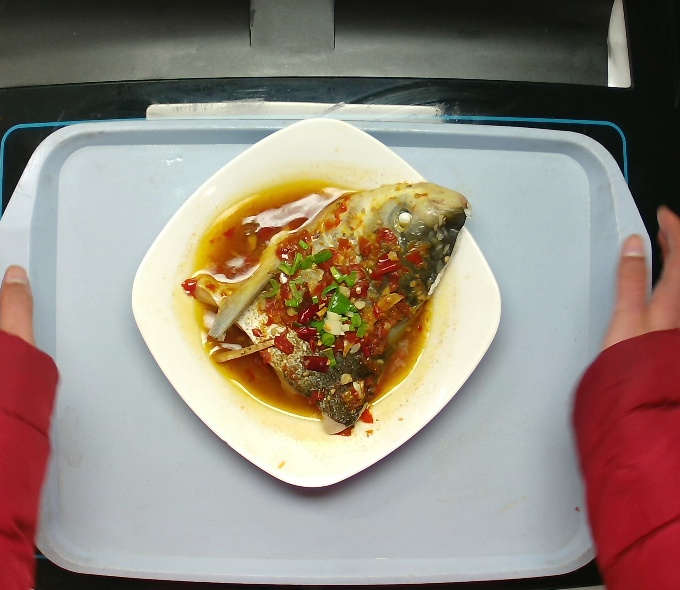wcq-DuoJiaoYuTou: (154, 156, 491, 455)
